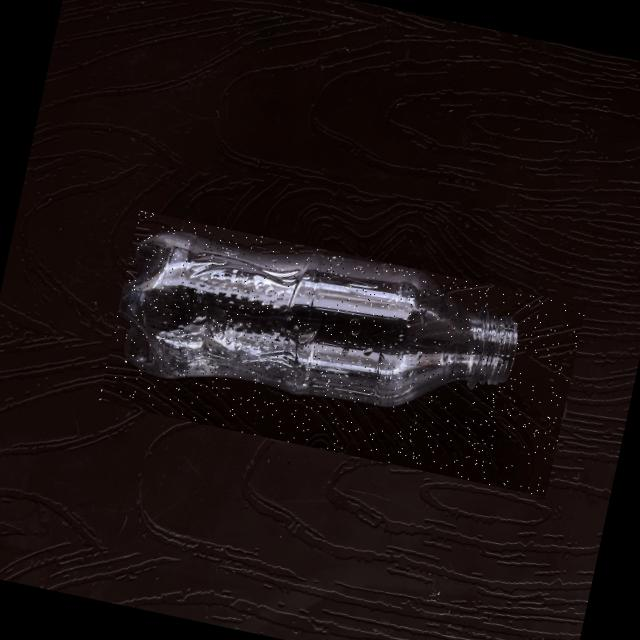PET_With_Liquid: (120, 231, 567, 481)
